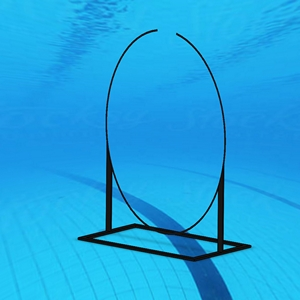circle: (75, 28, 254, 265)
